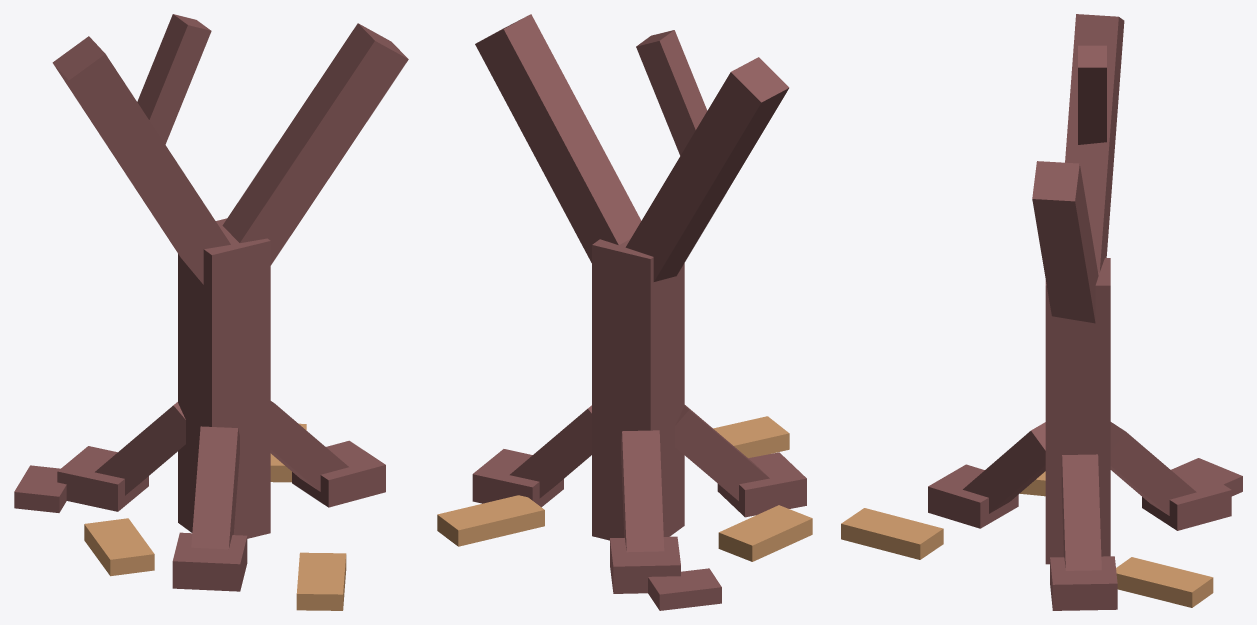
File: DeadTree.fbx
3 views of the same model, side by side, from view 1: azimuth 30°, elevation 25°; view 2: azimuth 150°, elevation 25°; view 3: azimuth 270°, elevation 25° (orthographic). The views are drawn at different scales.
Parts seen in each view (by area): view 1: DeadWood, SandDark.001; view 2: DeadWood, SandDark.001; view 3: DeadWood, SandDark.001.
Boxes of the visible parts, <box> form: DeadWood: <box>14,14,408,591</box>; SandDark.001: <box>84,423,346,610</box>; DeadWood: <box>472,14,806,610</box>; SandDark.001: <box>437,416,812,561</box>; DeadWood: <box>928,14,1242,610</box>; SandDark.001: <box>841,471,1213,607</box>.
Size of the model in its own units: 4.88 by 7.47 by 5.58.
